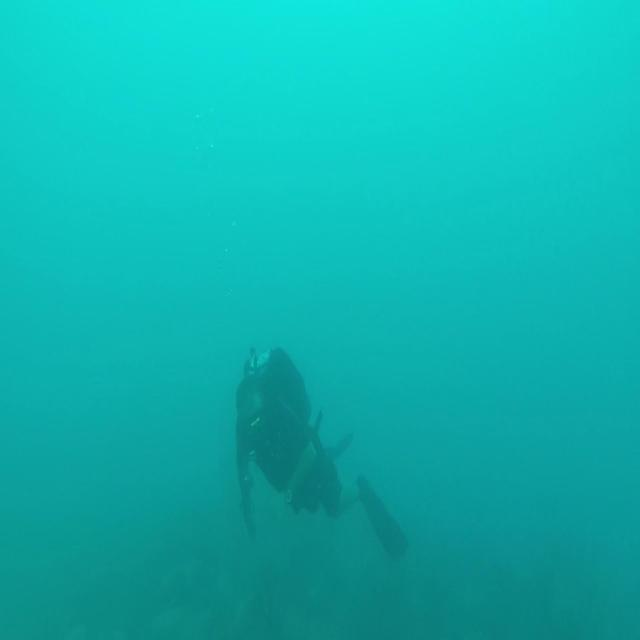human: (234, 344, 408, 560)
